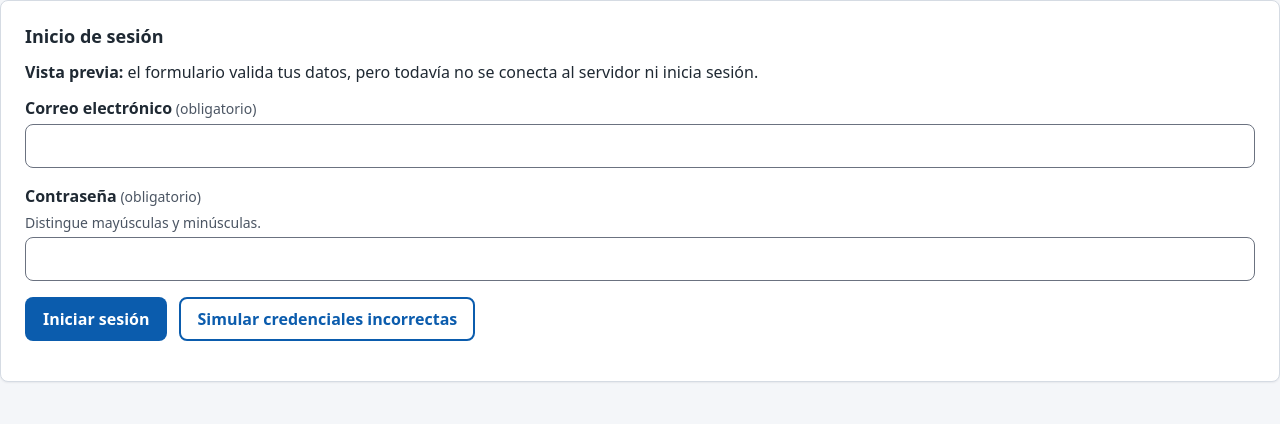
Test: FormularioLoginDemo (integración de InputField, Button y Card) › durante la carga conserva el foco, bloquea reenvíos y anuncia el resultado en role=status
This screenshot has width=1280, height=424.
In the field labelled "Correo electrónico (obligatorio)": (640, 146) top-left (25, 124), bottom-right (1255, 168), type "persona@ejemplo.com"
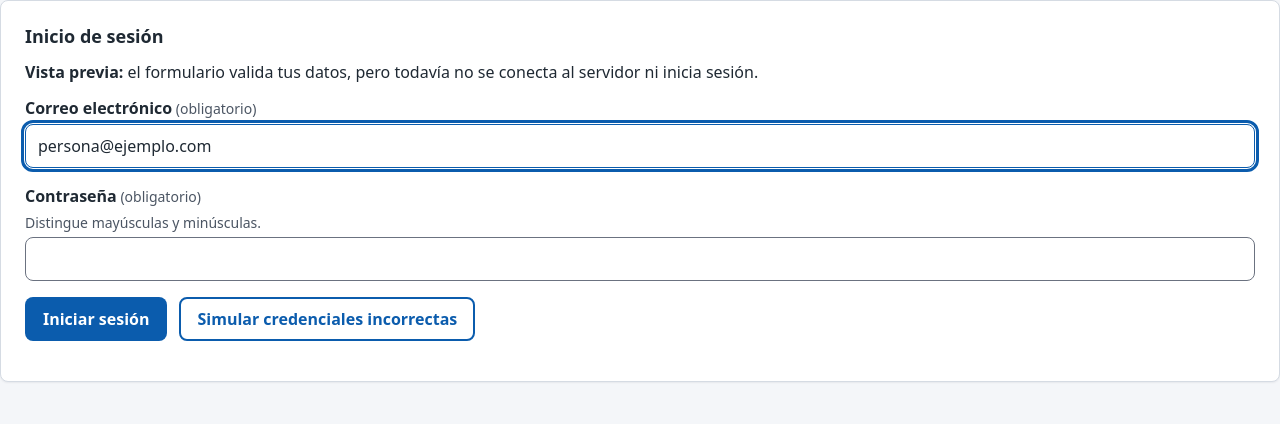
In the password field labelled "Contraseña (obligatorio)": (640, 259) top-left (25, 237), bottom-right (1255, 281), type "ContrasenaFicticia1"
Then press Enter
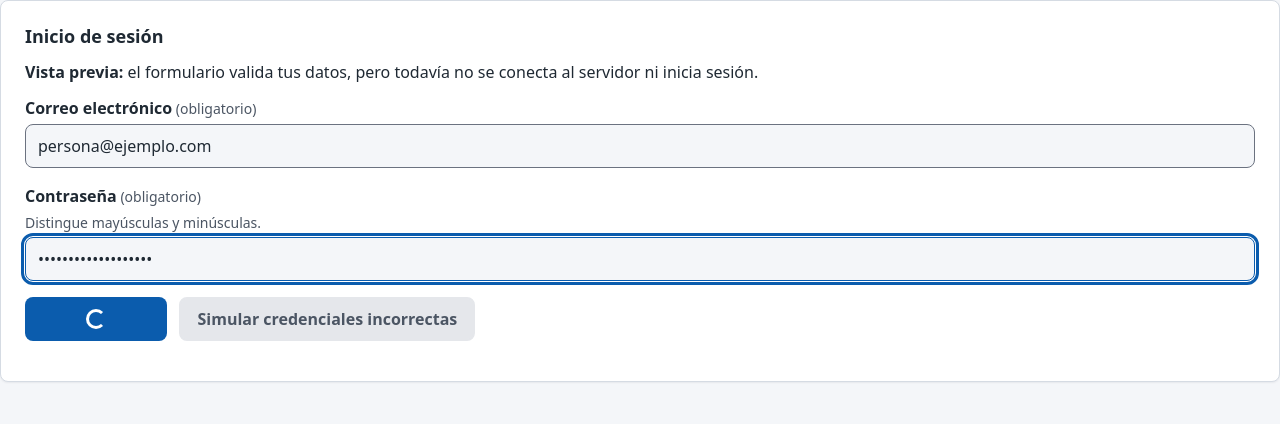
Expected: the button named "Iniciando sesión (simulación)…" has attribute aria-busy="true", top-left (25, 297), bottom-right (168, 341)
Expected: the button named "Iniciando sesión (simulación)…" is disabled, top-left (25, 297), bottom-right (168, 341)
Expected: the password field labelled "Contraseña (obligatorio)" has attribute readonly, top-left (25, 237), bottom-right (1255, 281)
Press Enter
Click the button named "Iniciando sesión (simulación)…": (96, 319) top-left (25, 297), bottom-right (168, 341)
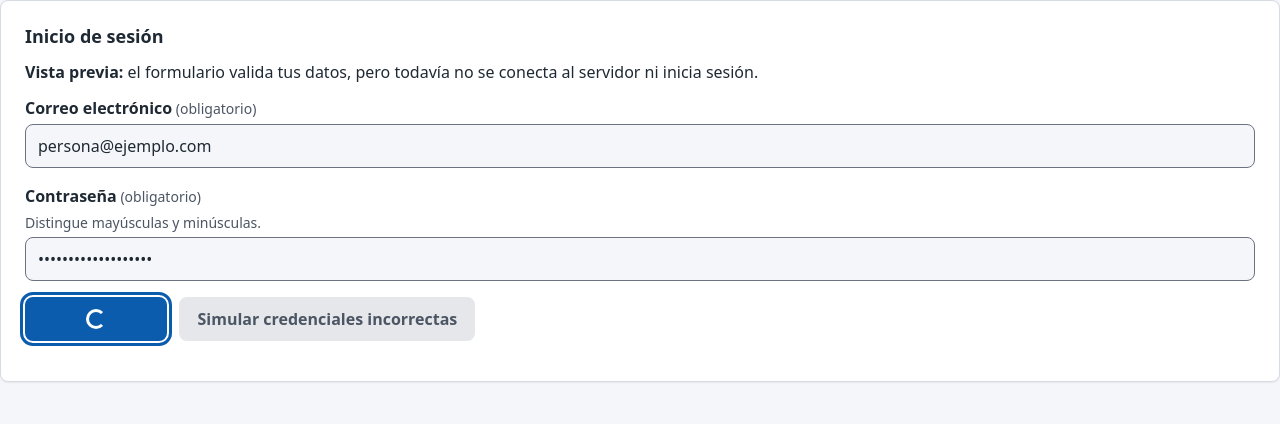
Type keys "{Enter} "
Wait 1600 ms
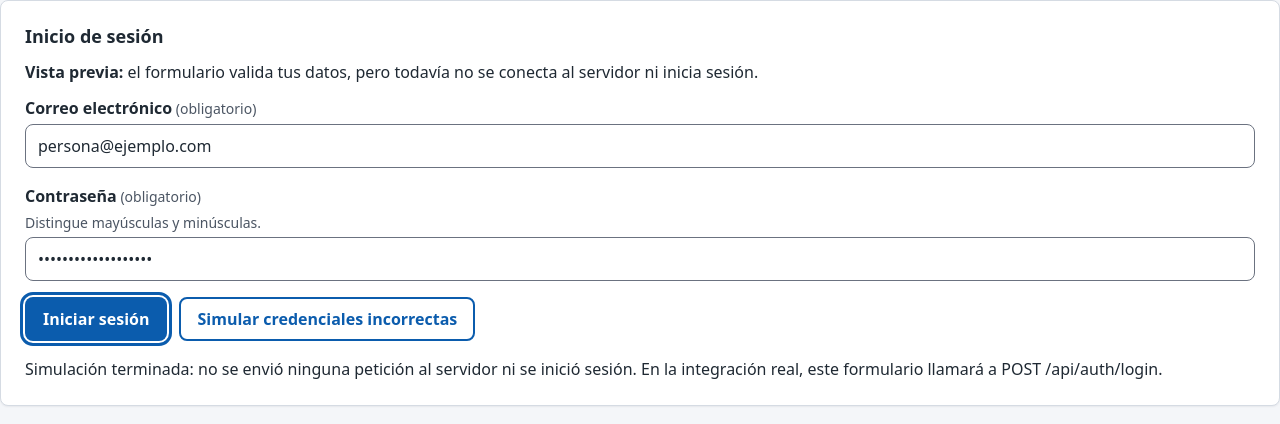
Expected: the message shows "Simulación terminada", top-left (25, 358), bottom-right (1162, 380)
